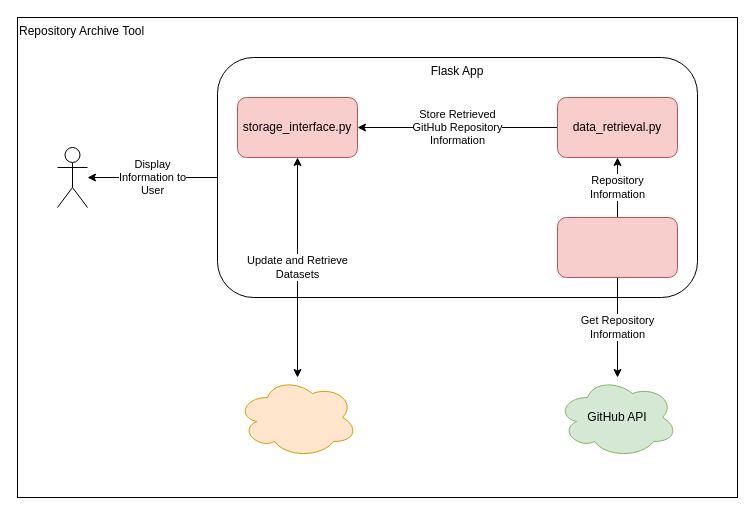
Image size: 755x515. Some labels were removed from this diagram. Each missing label, with the box of its shape:
GitHub API Toolkit (Imported): (556, 216, 678, 278)
S3 Bucket: (236, 376, 358, 458)
User: (56, 146, 88, 208)
